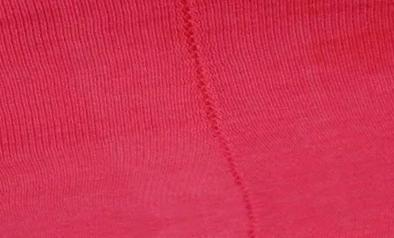slub: (178, 0, 263, 238)
